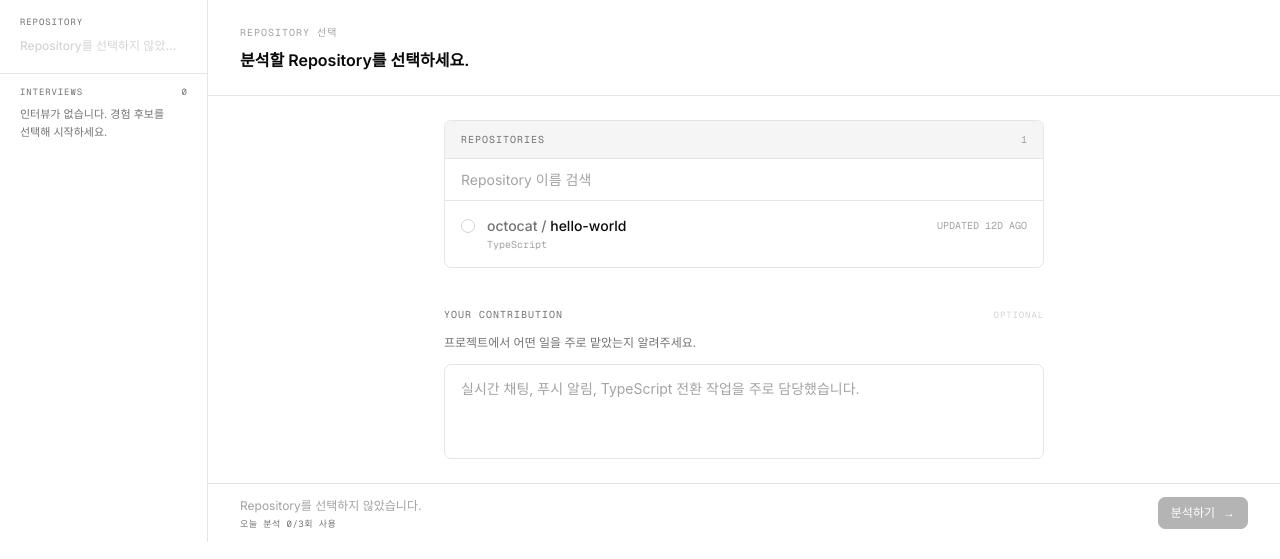
Test: RepositoryFlow › 선택 화면에서 Analyze를 누르면 그 Repository와 기여 항목으로 분석 화면을 시작한다
The width and height of the screenshot is (1280, 559).
Click the radio button labelled "octocat / hello-world TypeScript UPDATED 12D AGO".
click(512, 226)  # box top-left (445, 201), bottom-right (1043, 267)
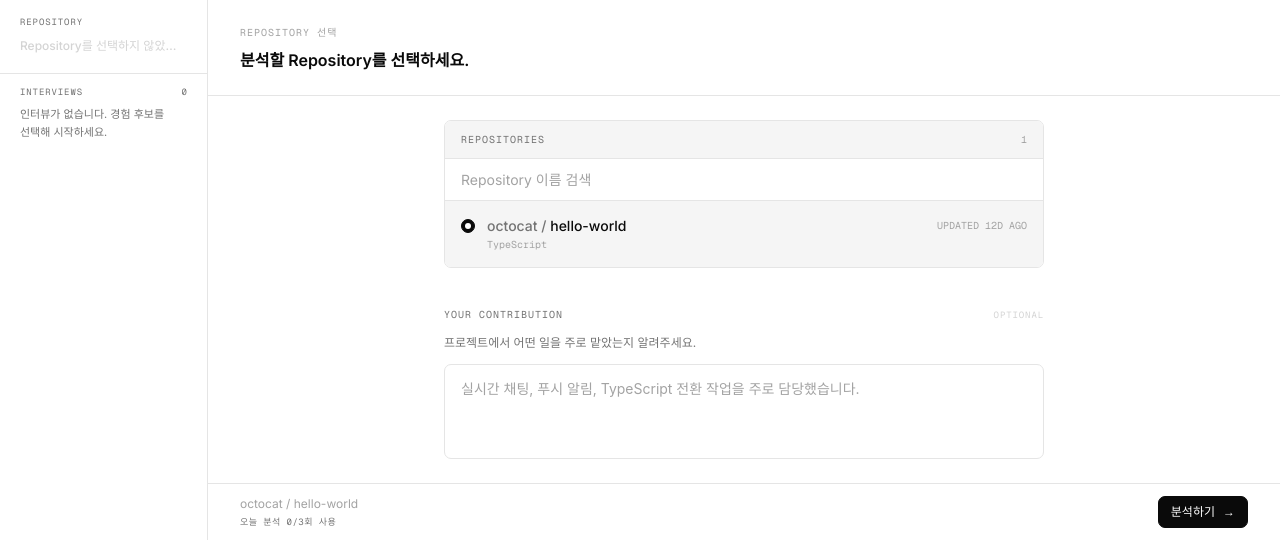
Type "푸시 알림 구현" into the text box labelled "Your Contribution".
click(744, 412); type("푸시 알림 구현")  # box top-left (445, 365), bottom-right (1043, 458)
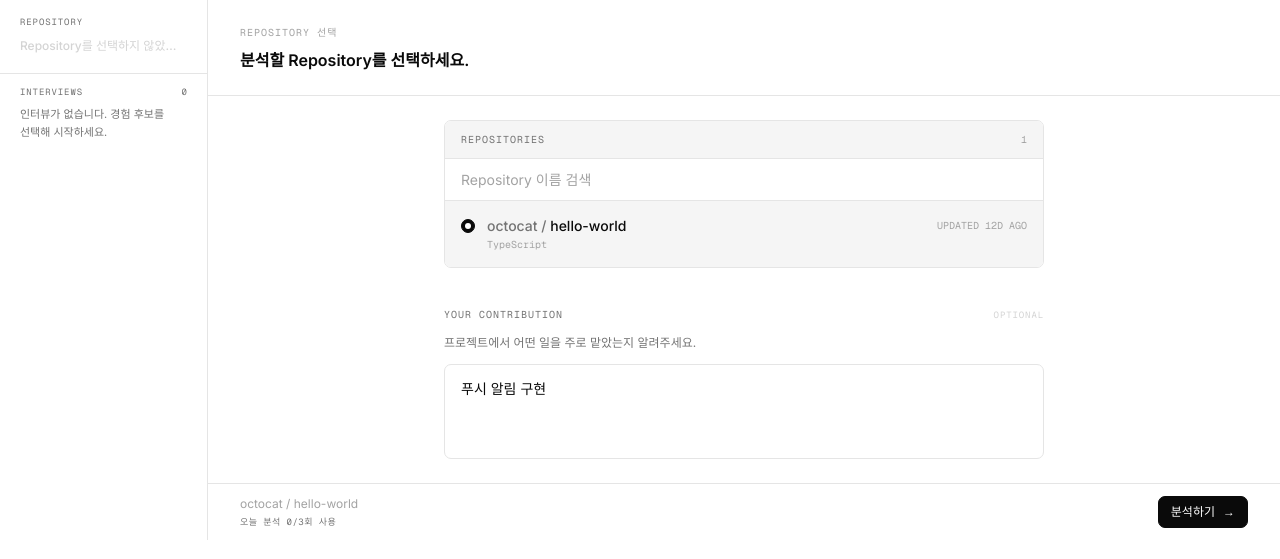
Click the button "분석하기 →".
click(1203, 512)  # box top-left (1158, 496), bottom-right (1248, 528)
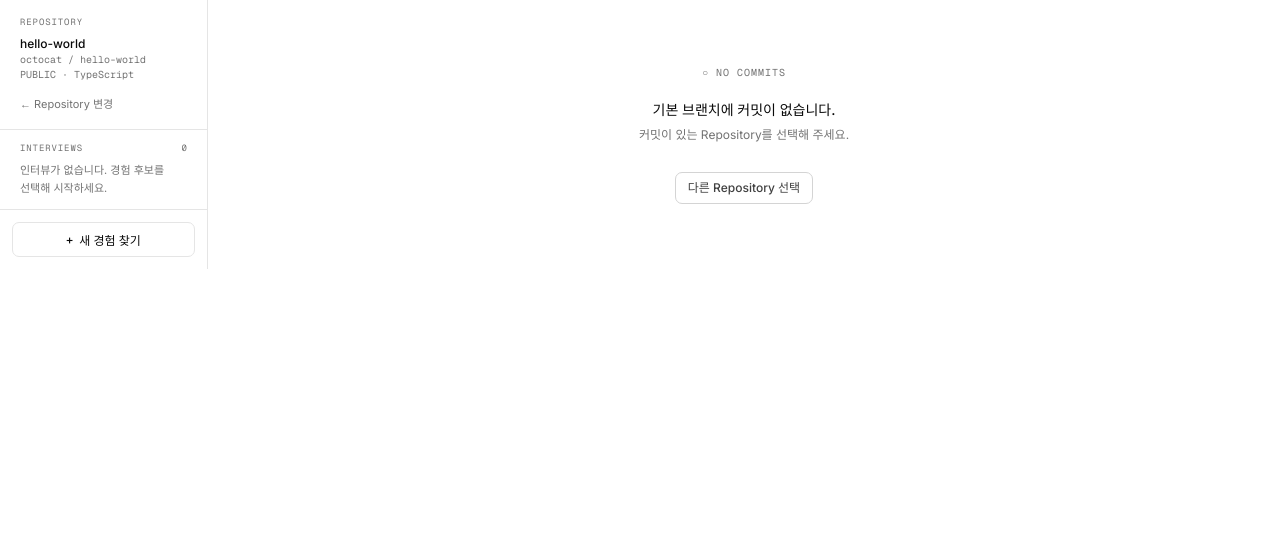
Check: the heading "분석할 Repository를 선택하세요." is gone
Check: the text "기본 브랜치에 커밋이 없습니다." is shown, box top-left (639, 98), bottom-right (849, 118)
